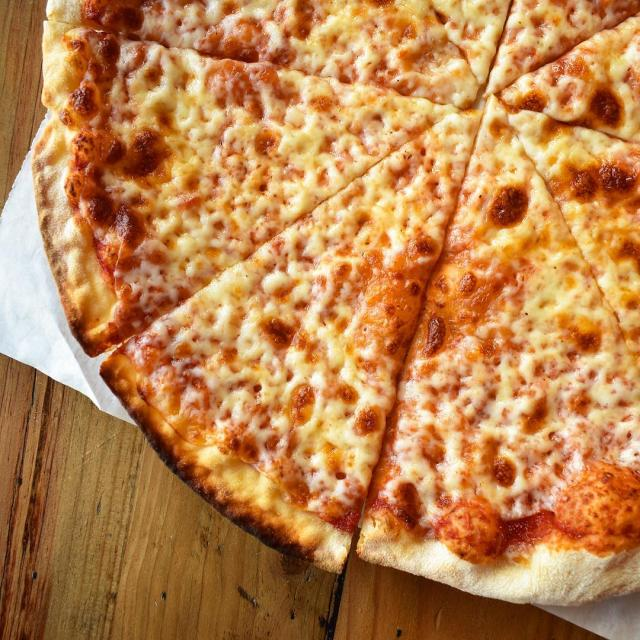pizza: (31, 0, 639, 607)
